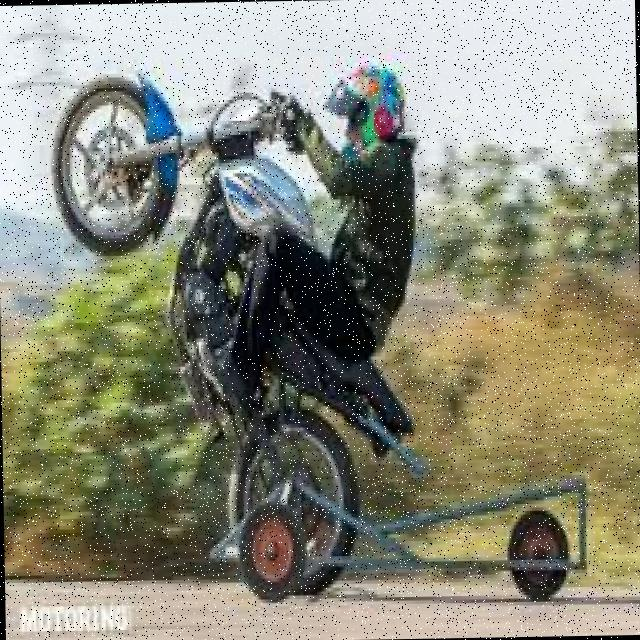Wheeling: (62, 56, 448, 604)
